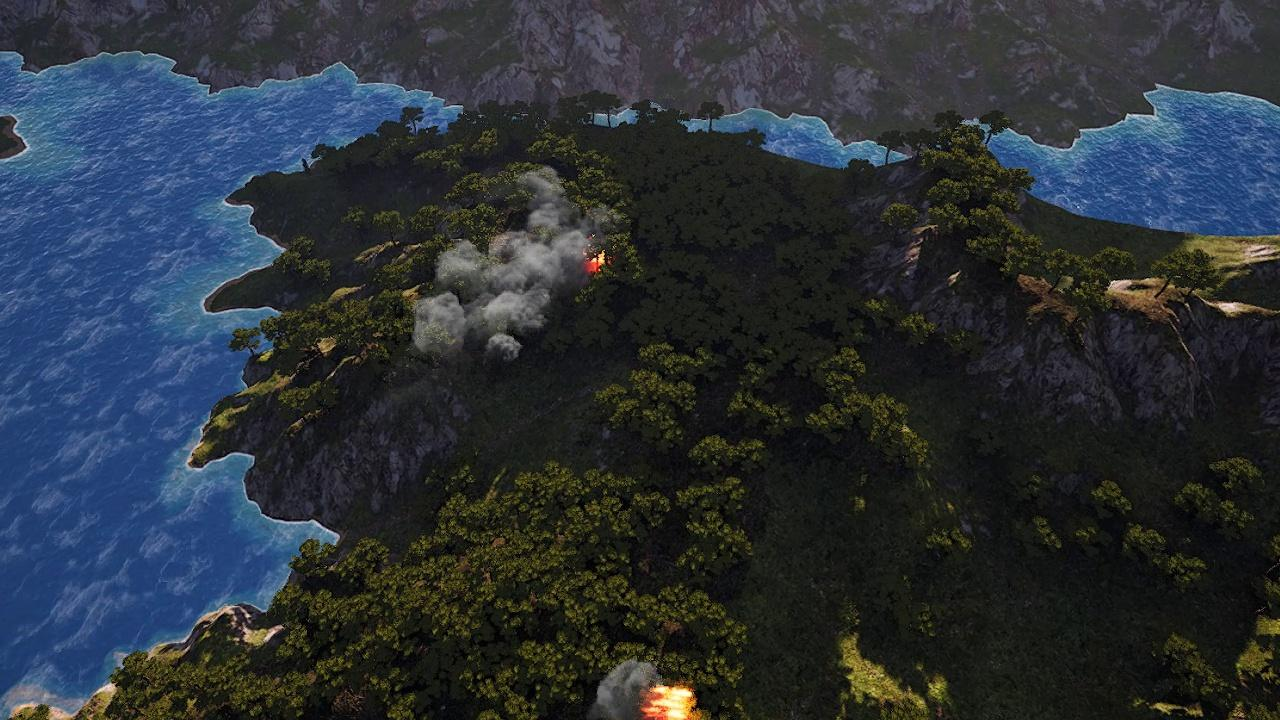fire: (640, 684, 694, 720), (582, 250, 606, 276)
smoke: (412, 172, 608, 363), (590, 659, 664, 720)
